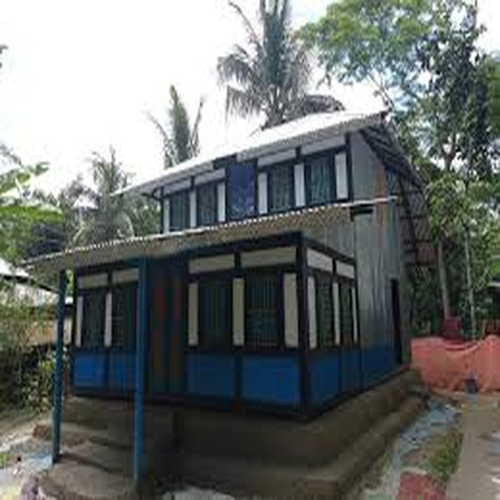Tin-shade House: (41, 94, 432, 417)
